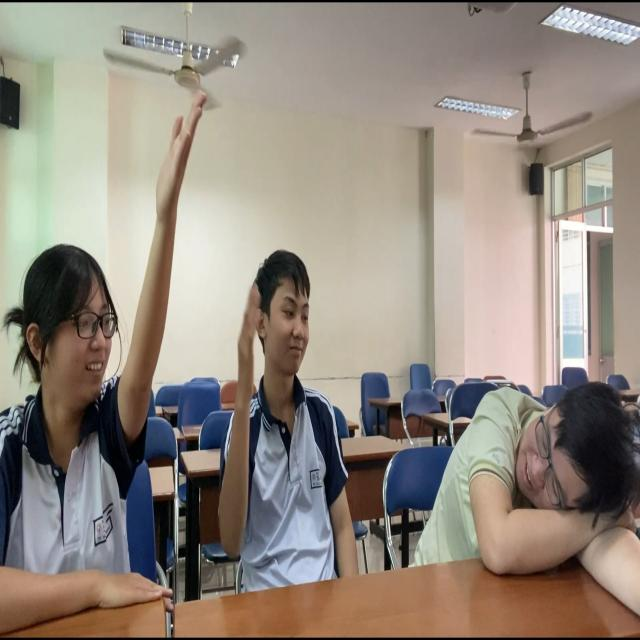raise_hand: (1, 89, 214, 640), (223, 241, 383, 599)
sleep: (425, 366, 640, 581)
